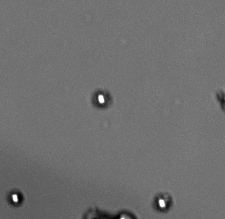Living Cell: (152, 191, 174, 212), (91, 87, 109, 109), (5, 188, 25, 207)
